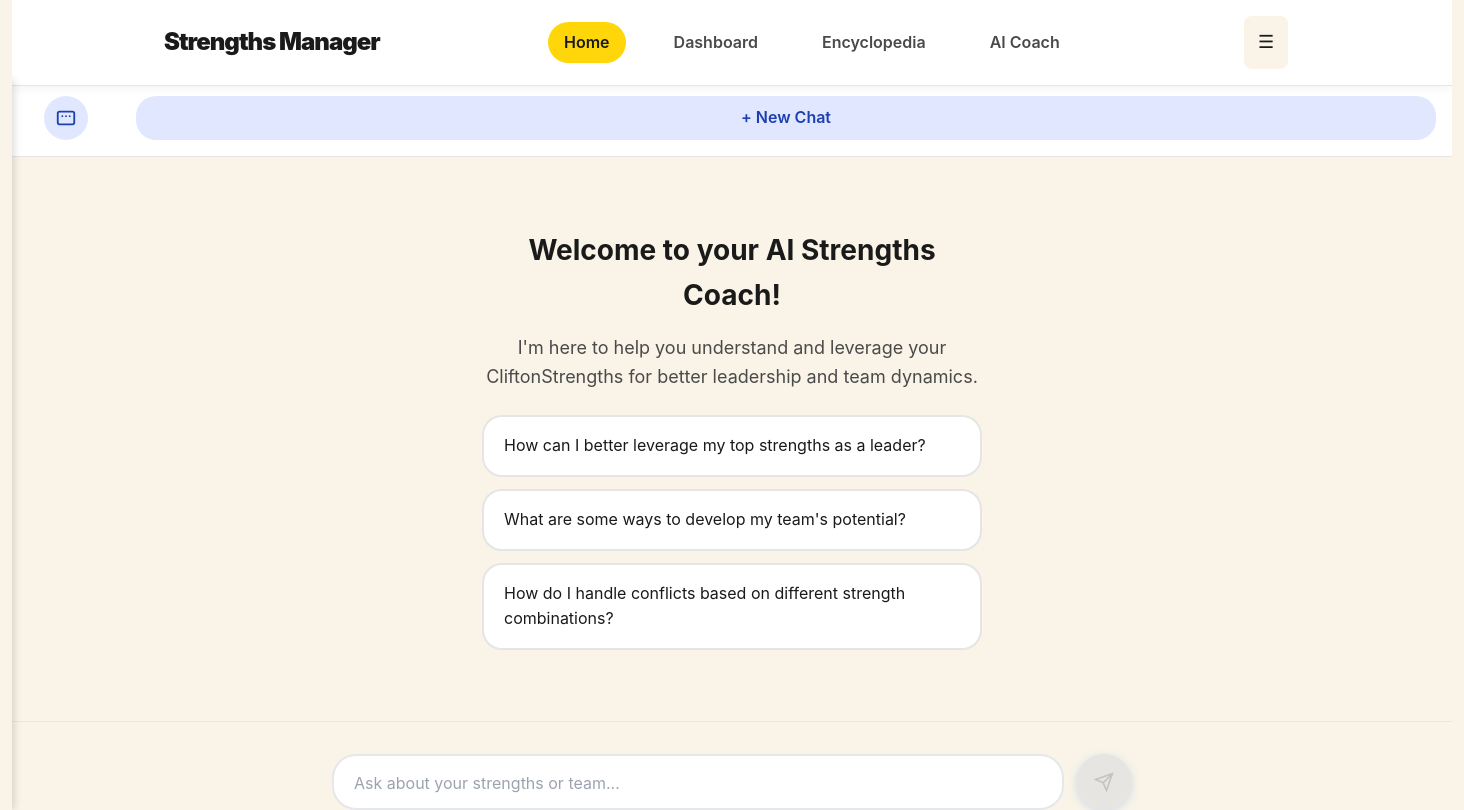
Test: ChatCoach › sends a message and displays AI response with follow-up questions
The width and height of the screenshot is (1464, 810).
Type "Test message" into the text box with placeholder "Ask about your strengths or team..." at (698, 782), box x1=332 y1=754 x2=1064 y2=809
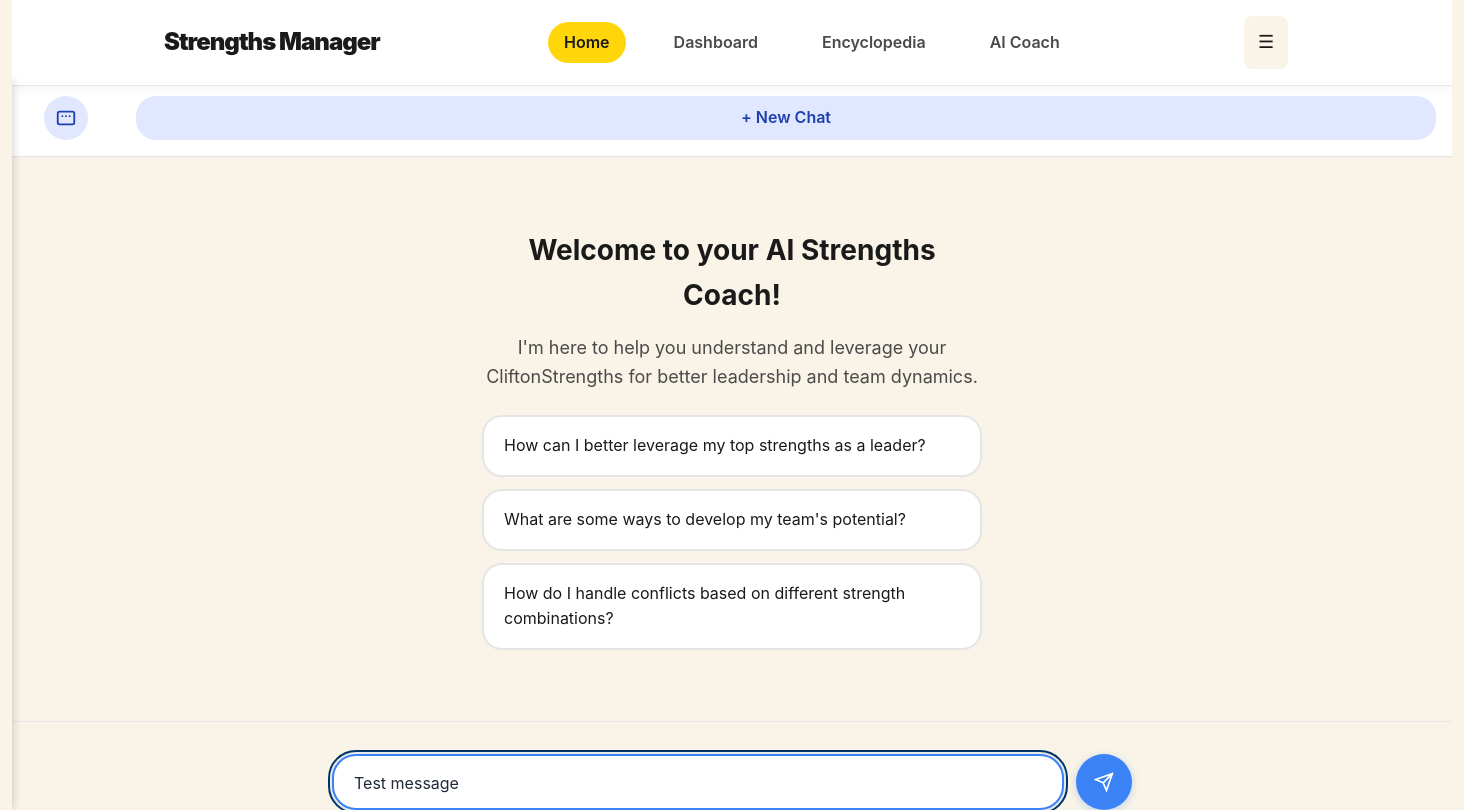
Click the button named "send message" at (1104, 782), box x1=1076 y1=754 x2=1132 y2=809
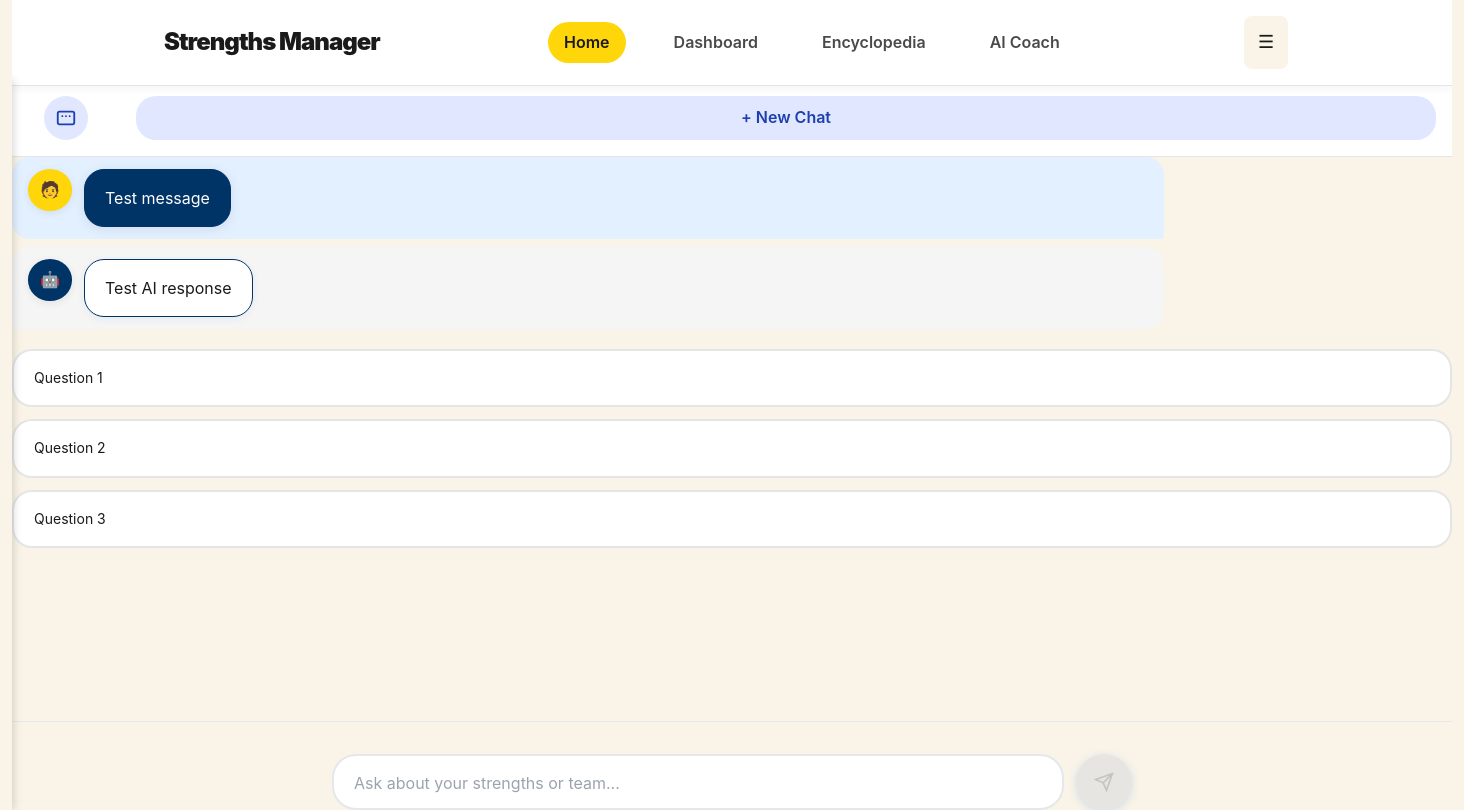
Check: the text "Test AI response" is shown, box x1=105 y1=276 x2=232 y2=300
Check: the button "Question 1" is shown, box x1=12 y1=349 x2=1452 y2=407
Check: the button "Question 2" is shown, box x1=12 y1=419 x2=1452 y2=478
